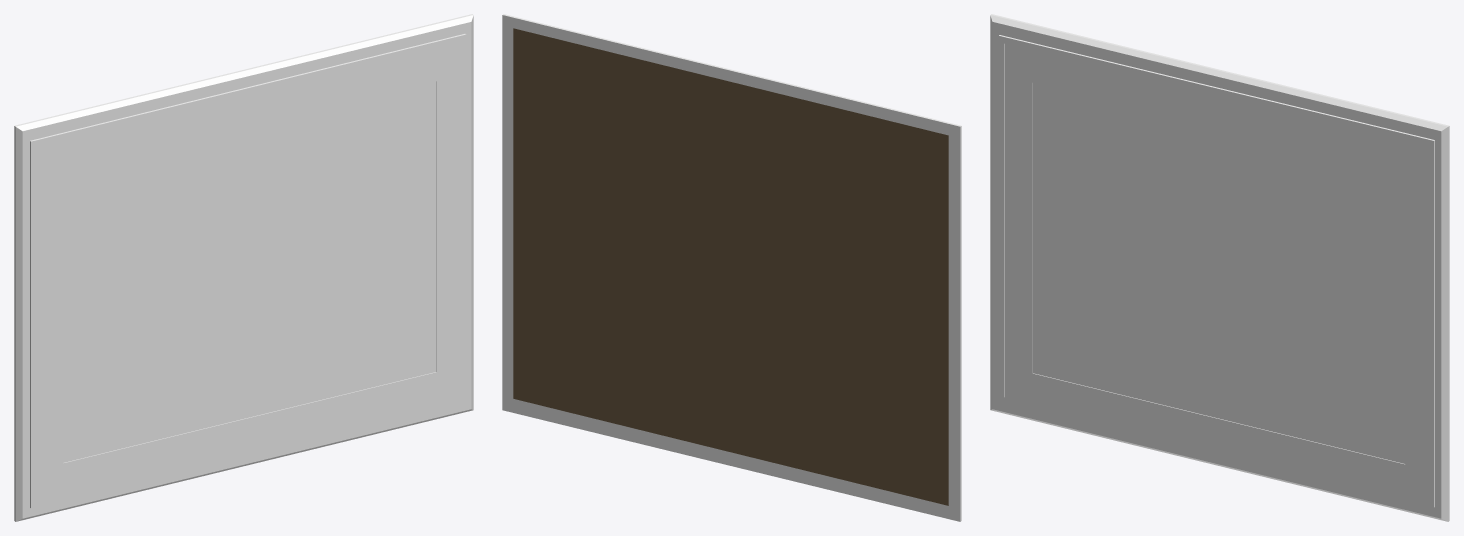
Rendered from MB_cadre 1.FBX.
3 renders of one model, left to right at view 1: azimuth 30°, elevation 25°; view 2: azimuth 150°, elevation 25°; view 3: azimuth 330°, elevation 25°, orthographic.
Parts seen in each view (by area): view 1: Group_001; view 2: Group_001; view 3: Group_001.
Boxes of the visible parts, <box> form: Group_001: <box>14,14,473,521</box>; Group_001: <box>502,14,961,521</box>; Group_001: <box>990,14,1449,521</box>.
Size of the model in its own units: 48.17 by 39.72 by 0.8848.
